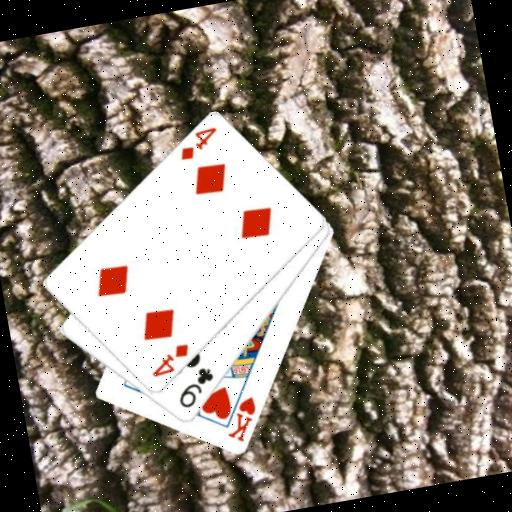4D: (144, 340, 194, 380), (172, 123, 222, 163)
9C: (170, 363, 220, 412)
KH: (218, 392, 263, 446)
